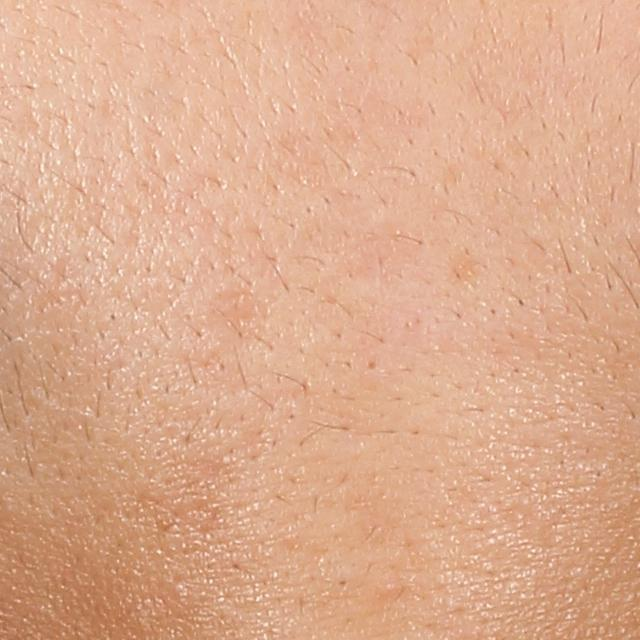comedo: (380, 571, 402, 596), (362, 352, 379, 379), (335, 567, 353, 591)
